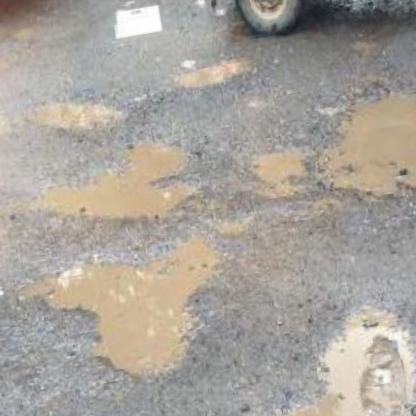pothole: (34, 217, 246, 399), (243, 281, 416, 416), (20, 125, 205, 237), (301, 54, 416, 229), (24, 79, 123, 139), (243, 133, 317, 201), (167, 48, 253, 96)
